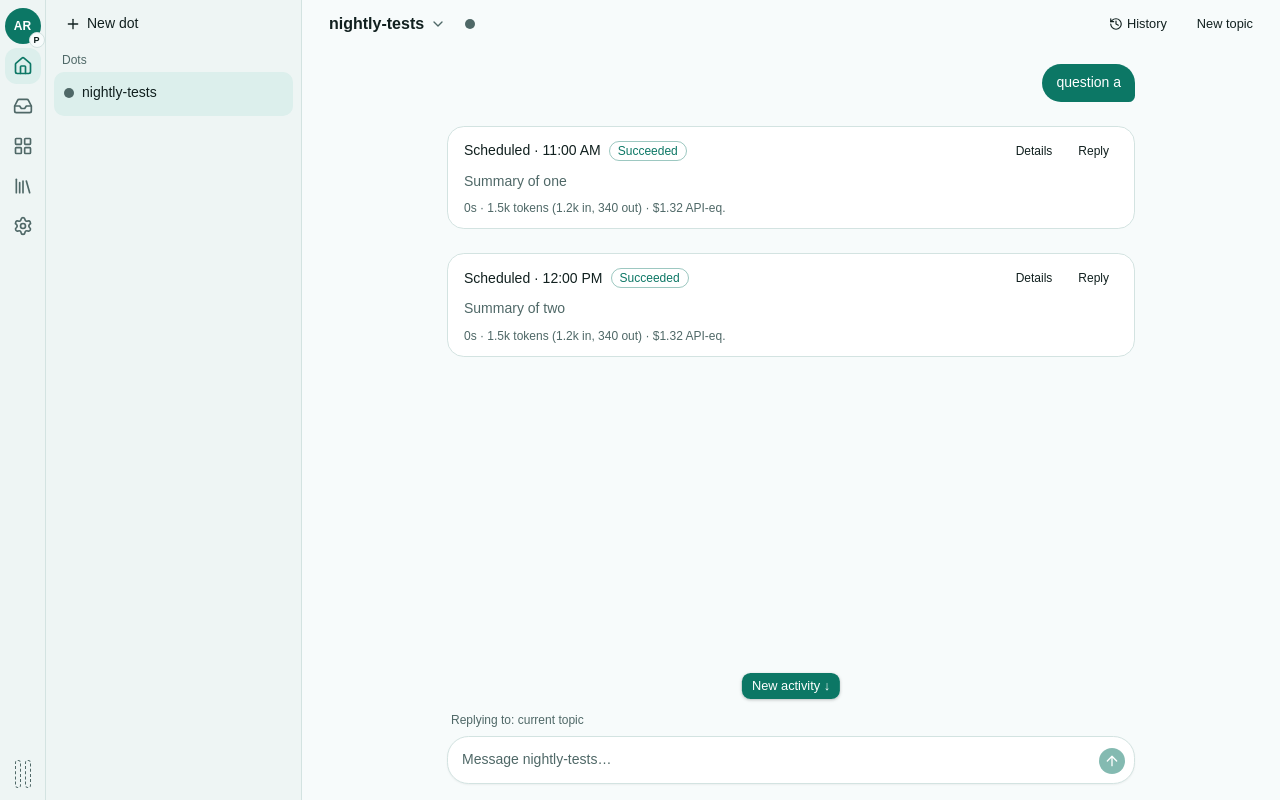
it: a dot's conversation › follows new activity at the bottom, and offers it after the person scrolled up
(page scrolled)
Expected: the text "question a" is shown, [1042,64,1135,102]
Click the button "New activity ↓": [791, 686] box [741,672,841,700]
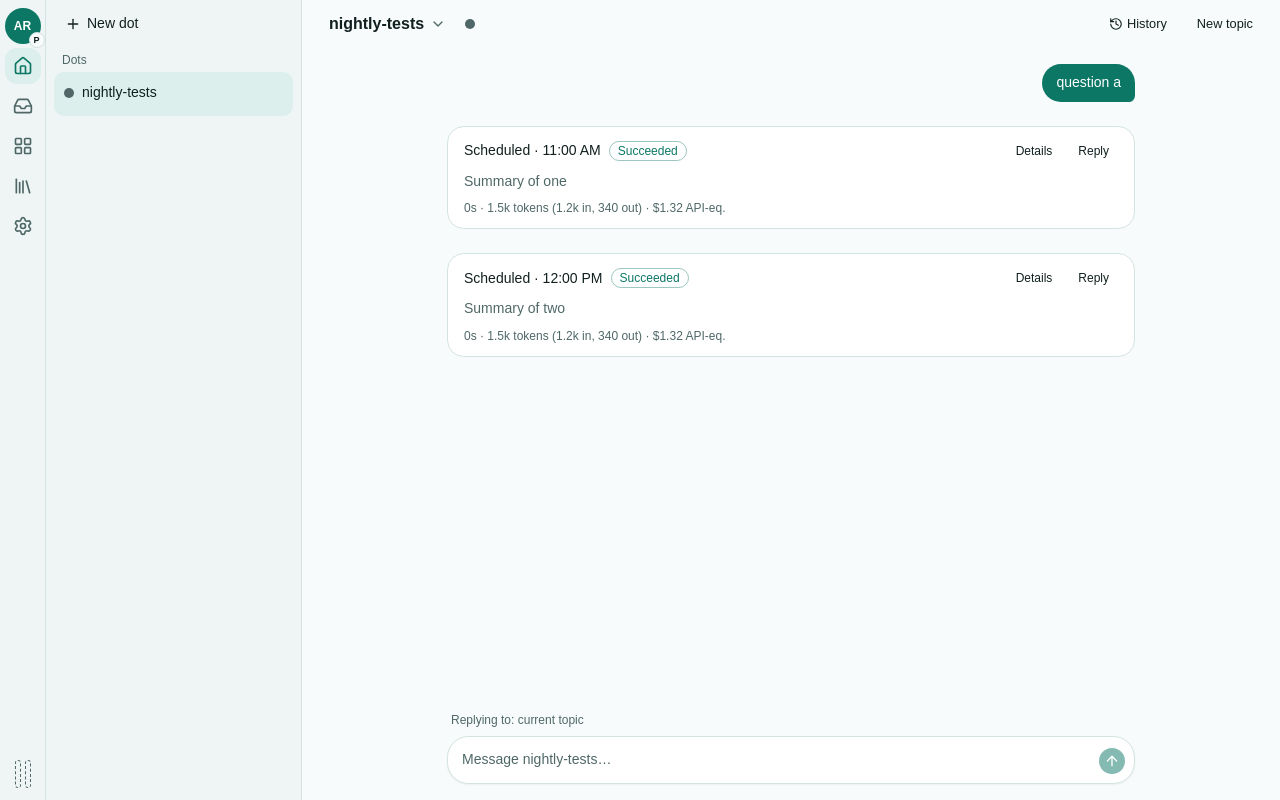
Expected: the button "New activity" is gone
